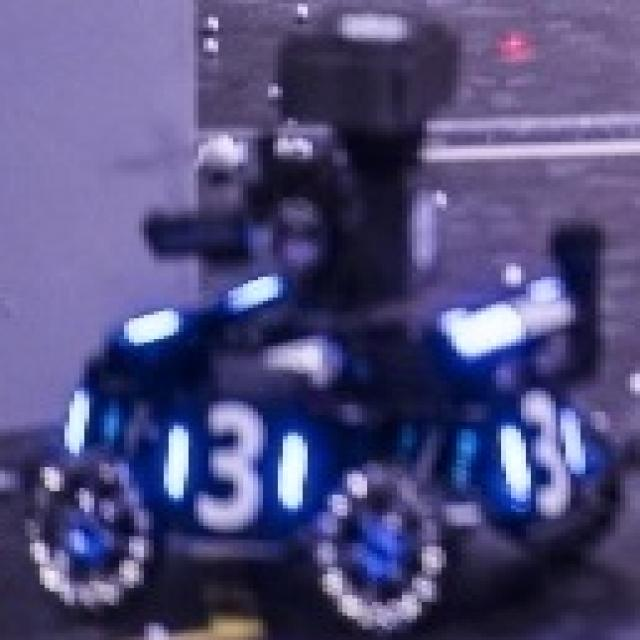B3: (158, 402, 308, 530)
